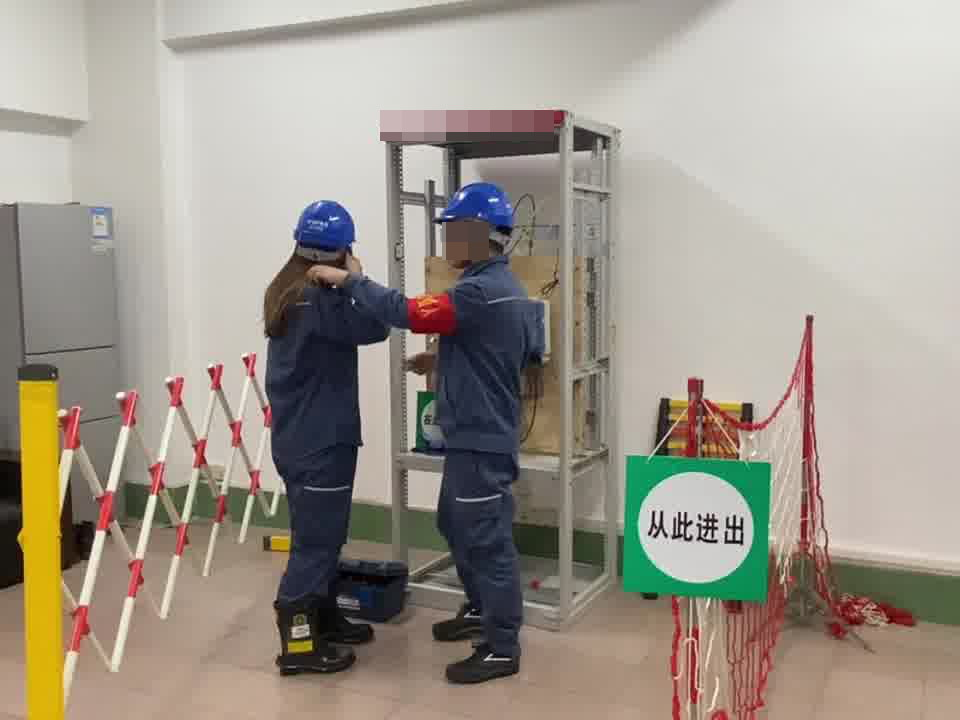badge: (411, 290, 458, 337)
downsuit: (435, 452, 527, 652), (272, 451, 361, 607)
hair: (257, 199, 359, 339)
halt: (435, 181, 519, 264)
hand: (307, 263, 350, 288), (342, 251, 367, 278)
inear: (452, 223, 487, 257)
intosign: (617, 451, 778, 610)
person: (309, 166, 547, 688), (252, 196, 384, 677)
shoe: (272, 585, 380, 680)
upsuit: (338, 261, 533, 454), (264, 276, 395, 448)
worksign: (412, 387, 444, 451)
